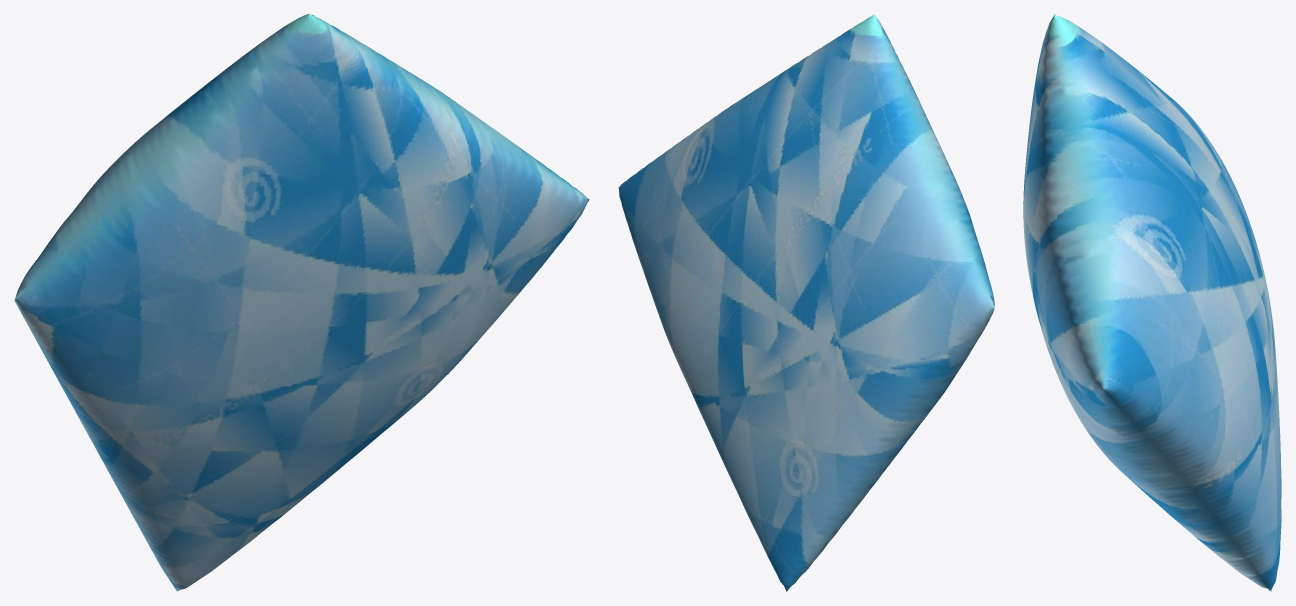
File: dimond.fbx
3 renders of one model, left to right at view 1: azimuth 30°, elevation 25°; view 2: azimuth 150°, elevation 25°; view 3: azimuth 270°, elevation 25°, orthographic. The views are drawn at different scales.
Visible parts, largest first — view 1: node_id185; view 2: node_id185; view 3: node_id185.
Boxes of the visible parts, <box> form: node_id185: <box>14,14,589,591</box>; node_id185: <box>618,14,994,591</box>; node_id185: <box>1023,14,1281,591</box>.
Bounding box in the file's own units: 0.3558 × 0.4243 × 0.1707.
1 material, 1 textured.
